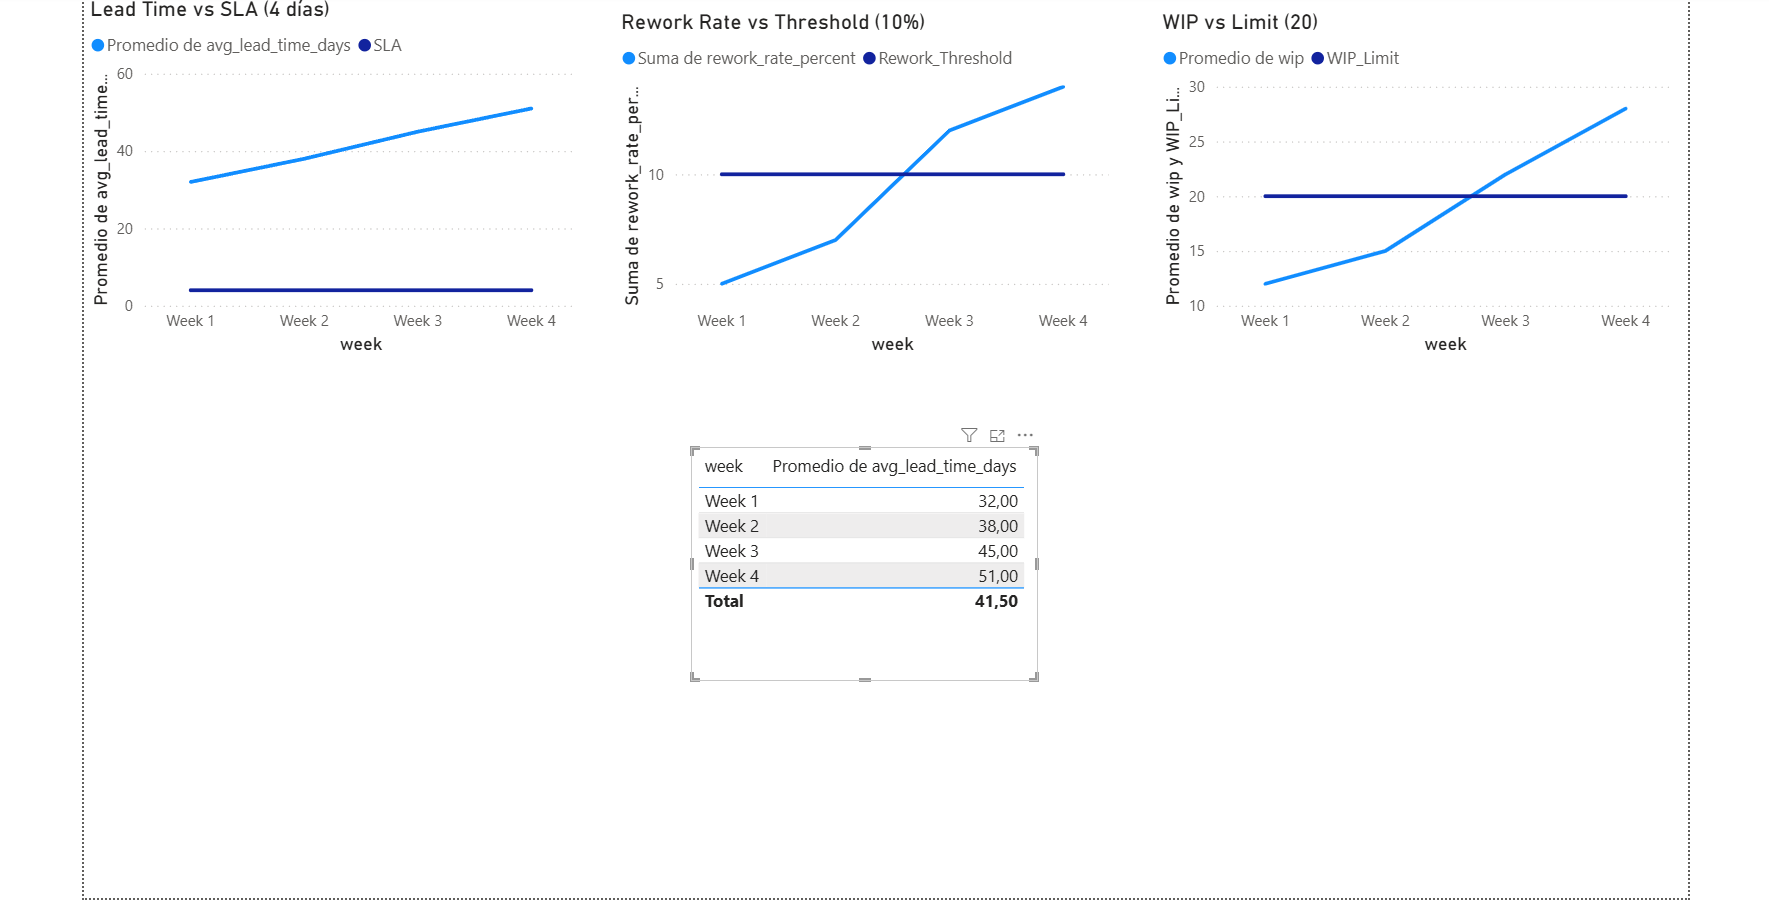

The dashboard page shown, as its layout file describes it:
{"tool":"powerbi","page":{"name":"Página 1","canvas":[1280,720],"ordinal":0},"visuals":[{"type":"lineChart","title":"Lead Time vs SLA (4 días)","fields":{"Y":["Avg(ops_metrics_sample.avg_lead_time_days)","ops_metrics_sample.SLA"],"Category":["ops_metrics_sample.week"]},"box":[0,0,398.3,290.6],"z":0},{"type":"tableEx","fields":{"Values":["ops_metrics_sample.week","Avg(ops_metrics_sample.avg_lead_time_days)"]},"box":[484.5,360,277,186.8],"z":1000},{"type":"lineChart","title":"WIP vs Limit (20)","fields":{"Category":["ops_metrics_sample.week"],"Y":["Avg(ops_metrics_sample.wip)","ops_metrics_sample.WIP_Limit"]},"box":[855.7,10.4,418.3,280.2],"z":2000},{"type":"lineChart","title":"Rework Rate vs Threshold (10%)","fields":{"Category":["ops_metrics_sample.week"],"Y":["Sum(ops_metrics_sample.rework_rate_percent)","ops_metrics_sample.Rework_Threshold"]},"box":[423.9,10.4,399.1,280.2],"z":3000}]}

Visuals, with their boxes on the page's 1280x720 design canvas (x1, y1, x2, y2). These are canvas units, not pixel positions in the 1769x901 screenshot, which may show the page scaled, cropped or inside an application window:
"Lead Time vs SLA (4 días)" lineChart: pyautogui.locateOnScreen(0, 0, 398, 291)
tableEx - ops_metrics_sample.week x Avg(ops_metrics_sample.avg_lead_time_days): pyautogui.locateOnScreen(484, 360, 762, 547)
"WIP vs Limit (20)" lineChart: pyautogui.locateOnScreen(856, 10, 1274, 291)
"Rework Rate vs Threshold (10%)" lineChart: pyautogui.locateOnScreen(424, 10, 823, 291)
